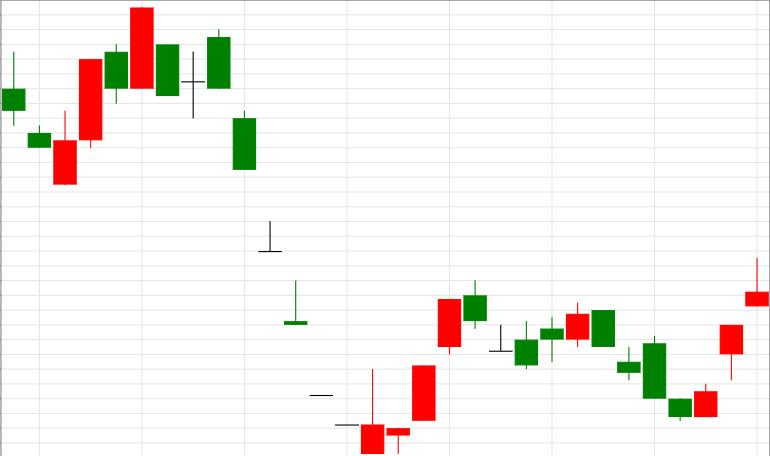inverse_hammer_rise: (208, 29, 384, 455)
